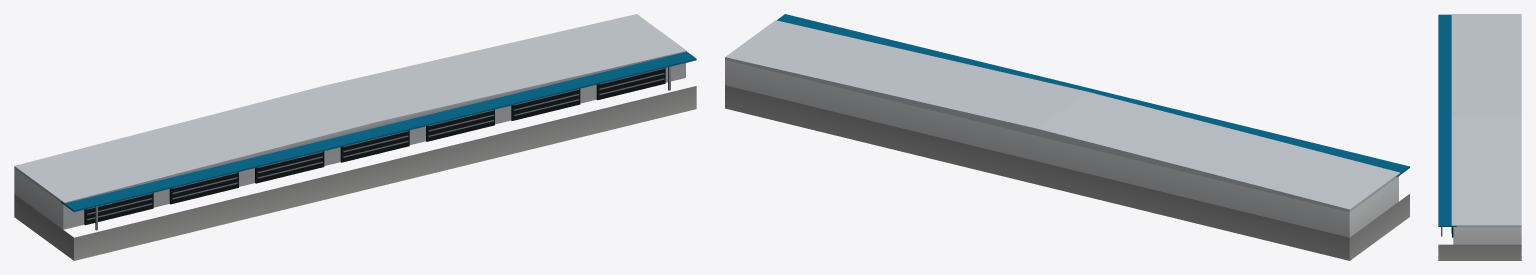
The model's file is karting-garage-row.glb.
3 renders of one model, left to right at view 1: azimuth 30°, elevation 25°; view 2: azimuth 150°, elevation 25°; view 3: azimuth 270°, elevation 25°, orthographic. The views are drawn at different scales.
Parts seen in each view (by area): view 1: karting-garage-row; view 2: karting-garage-row; view 3: karting-garage-row.
Boxes of the visible parts, bbox=[...] form: karting-garage-row: bbox=[14, 14, 696, 260]; karting-garage-row: bbox=[725, 14, 1409, 260]; karting-garage-row: bbox=[1438, 14, 1521, 260].
Size of the model in its own units: 84 by 7.2 by 14.
